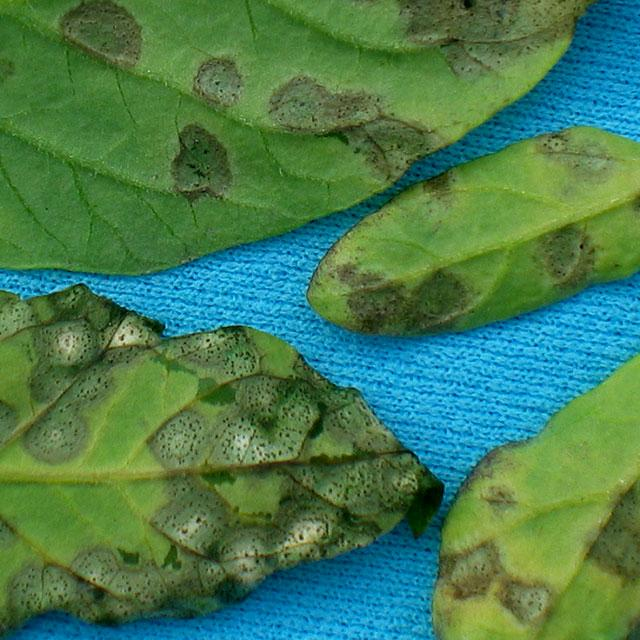Tomato Septoria leaf spot: (0, 0, 640, 282), (0, 283, 468, 640), (294, 121, 640, 344), (447, 285, 640, 640)
